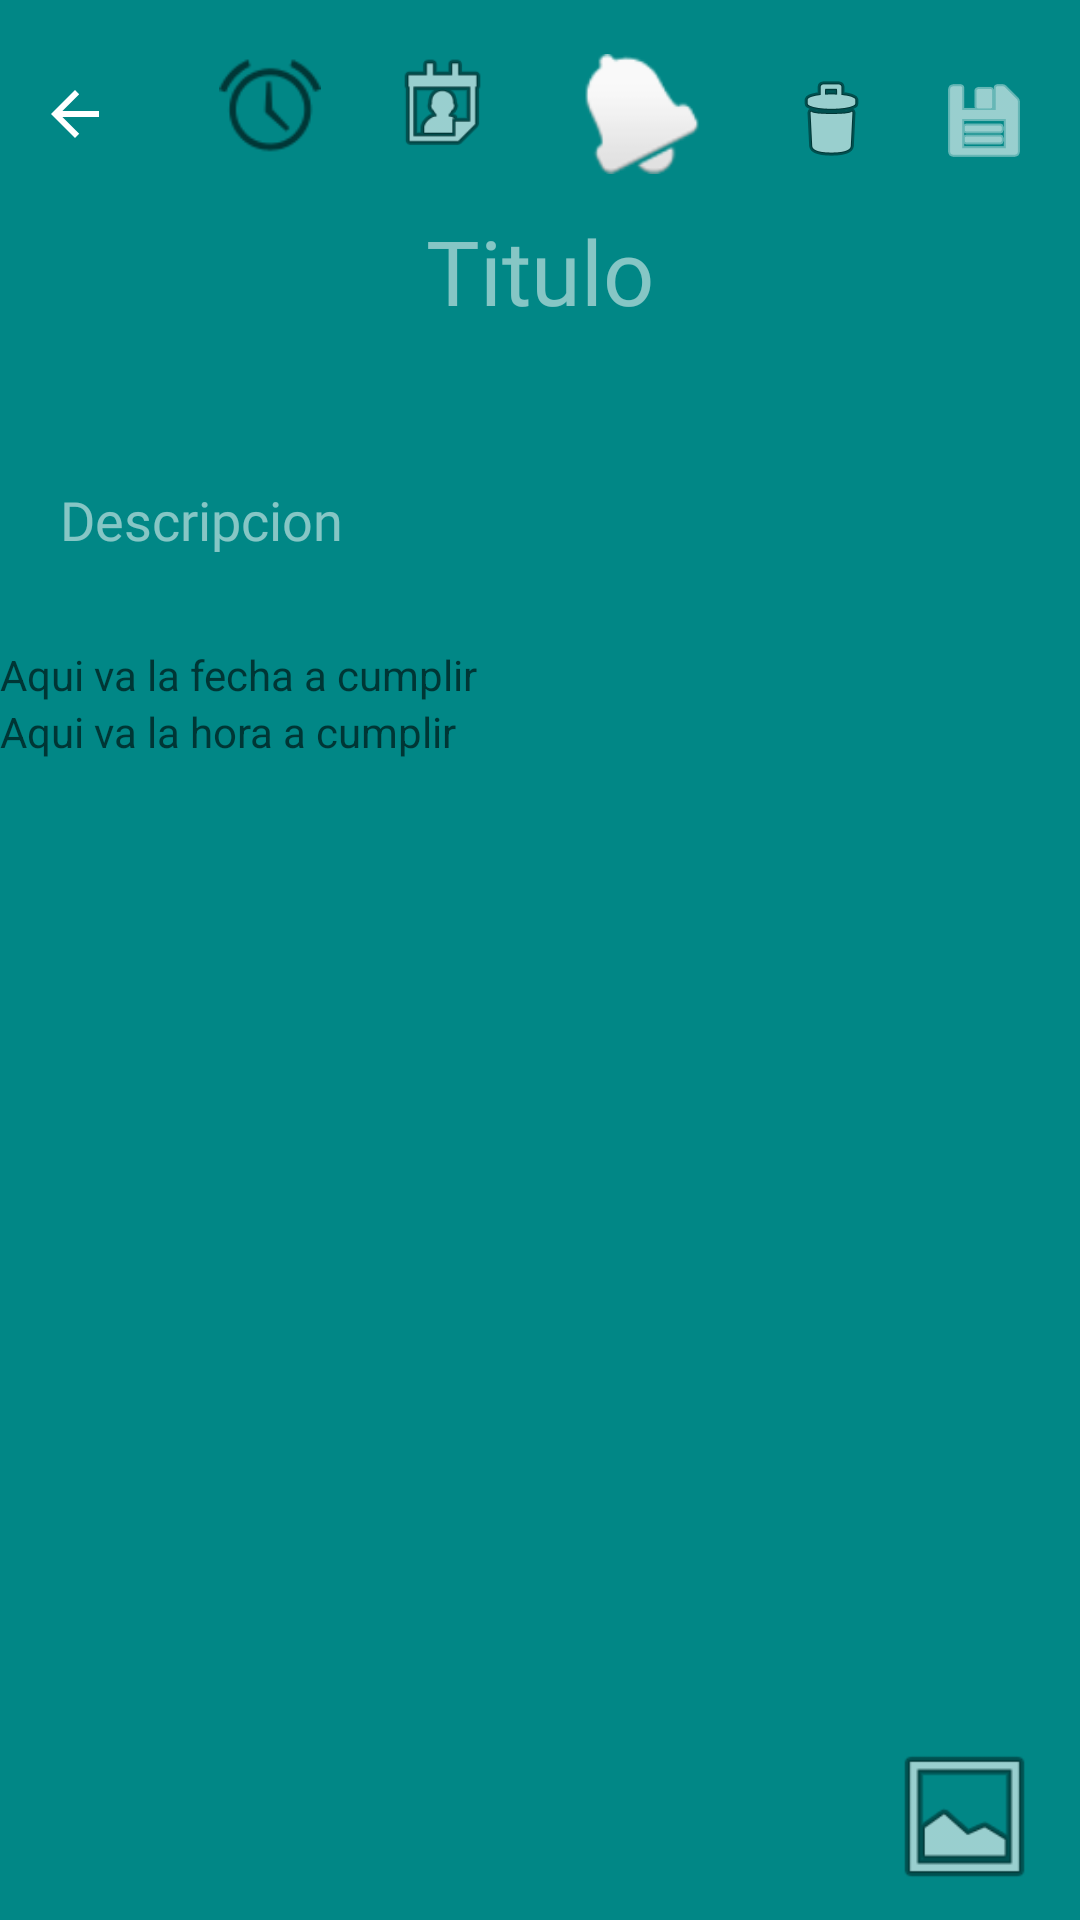

Named icons in this screenshot (1080×1920) and their centers, (x=x, y=y):
calendar: (x=442, y=102)
delete: (x=831, y=118)
gallery: (x=964, y=1816)
popup reminder: (x=642, y=114)
save: (x=984, y=120)
